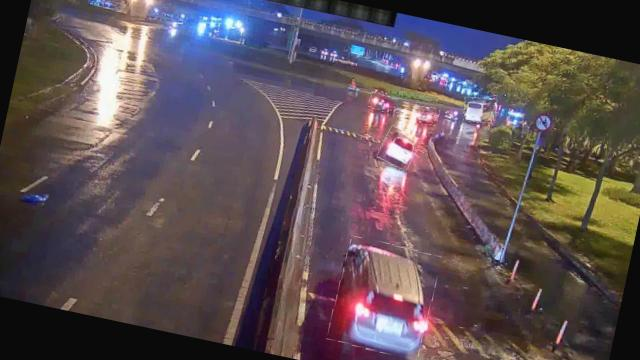Bus: (461, 94, 499, 126)
Car: (327, 235, 442, 360), (377, 126, 420, 170), (412, 105, 440, 128), (368, 92, 398, 113)
